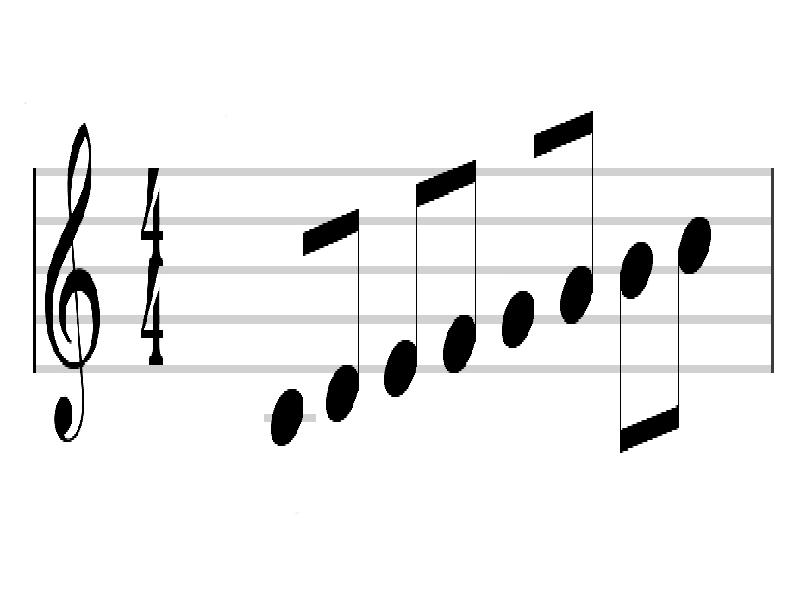C: (658, 211, 716, 444), (436, 153, 488, 375), (384, 161, 431, 404), (325, 203, 371, 429), (557, 111, 600, 325), (615, 234, 657, 453)
CS: (44, 114, 106, 444)
